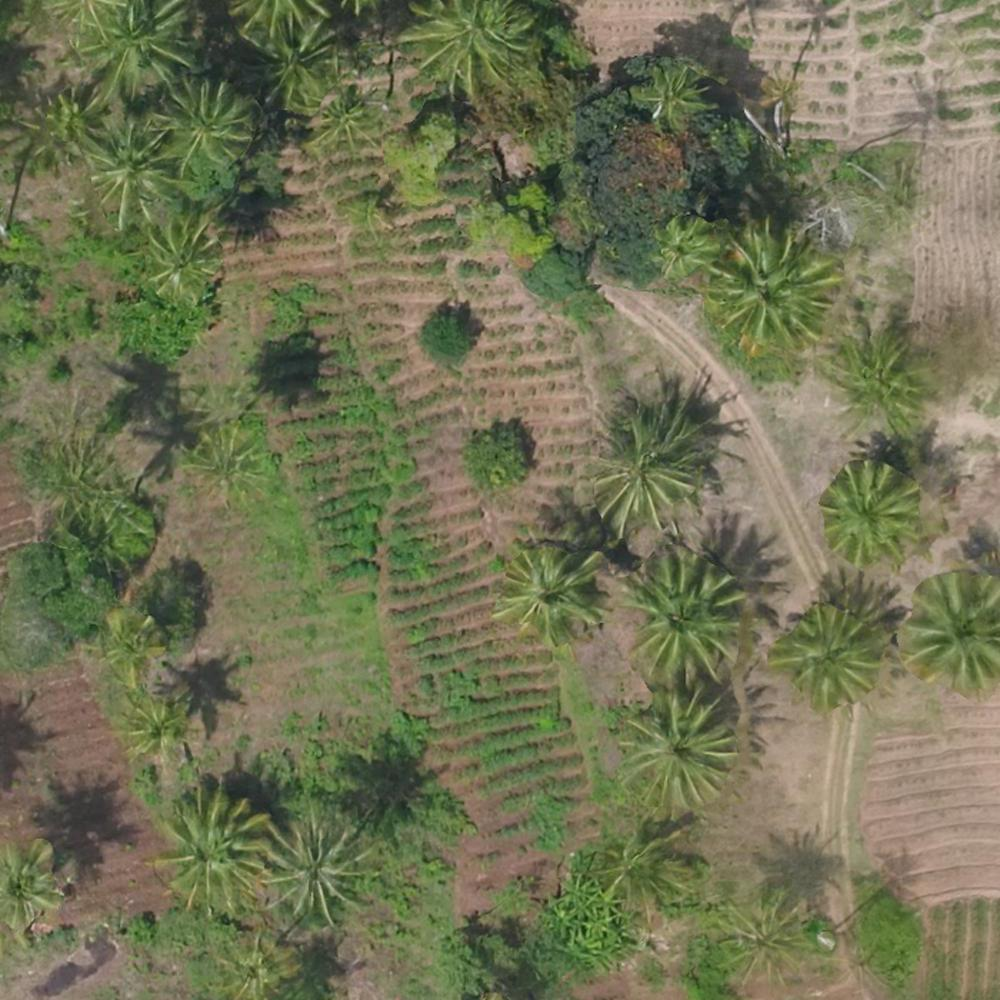Palm: (716, 227, 840, 350), (402, 1, 534, 102), (632, 556, 742, 675), (594, 407, 699, 527), (618, 696, 733, 804), (163, 790, 264, 911), (262, 811, 367, 919), (76, 1, 193, 97), (821, 462, 928, 563), (907, 577, 998, 693), (778, 610, 879, 706), (830, 331, 932, 426), (499, 542, 599, 636), (85, 123, 172, 218), (162, 76, 244, 172), (144, 215, 225, 300), (211, 933, 295, 1000), (637, 65, 710, 132), (118, 694, 186, 761)
